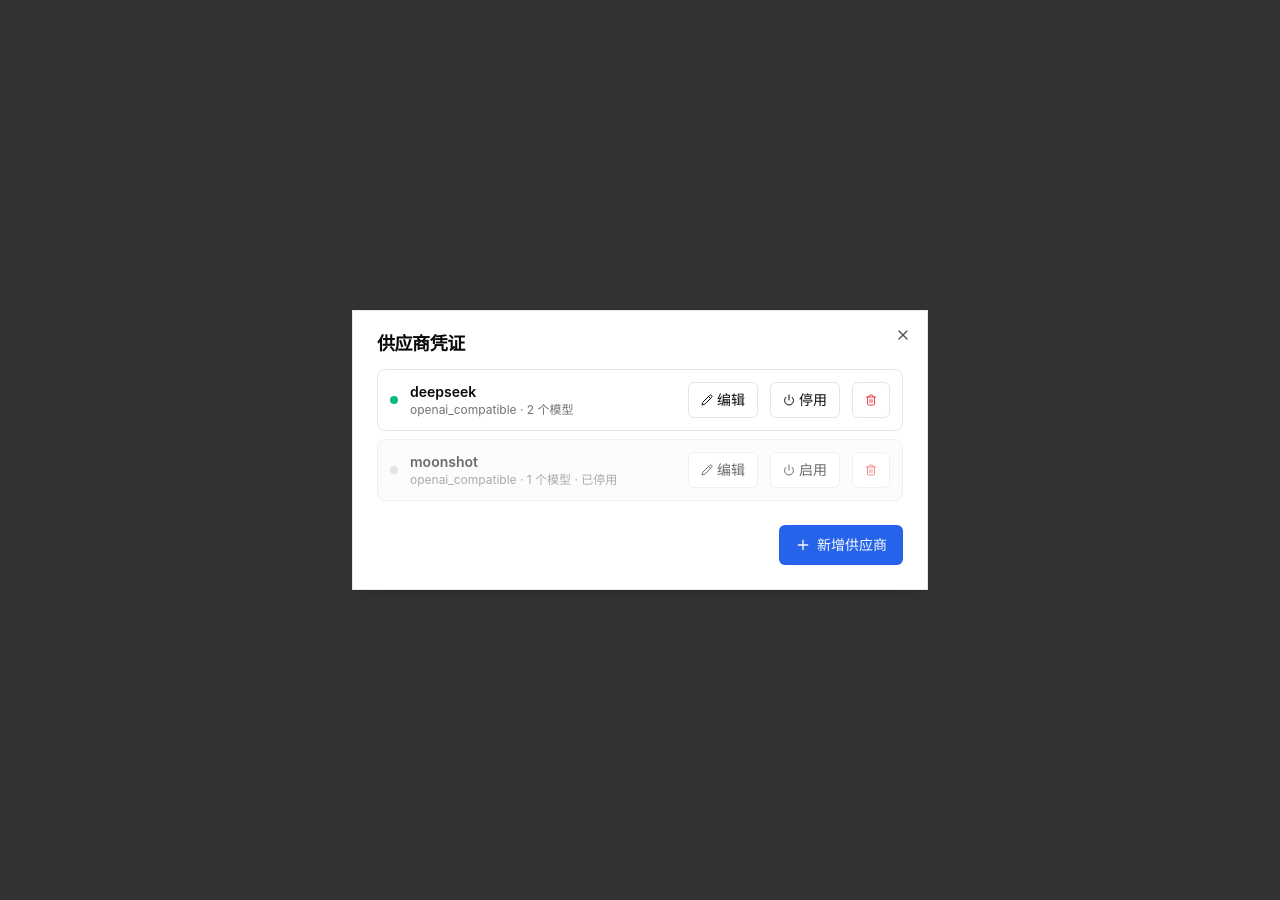
Test case: #4 删除两步确认(block-if-referenced 前端守卫) › 确认请求进行中按钮禁用,其余行垃圾桶不受影响
Click the button named "删除 deepseek": (871, 400) [852,382,890,418]
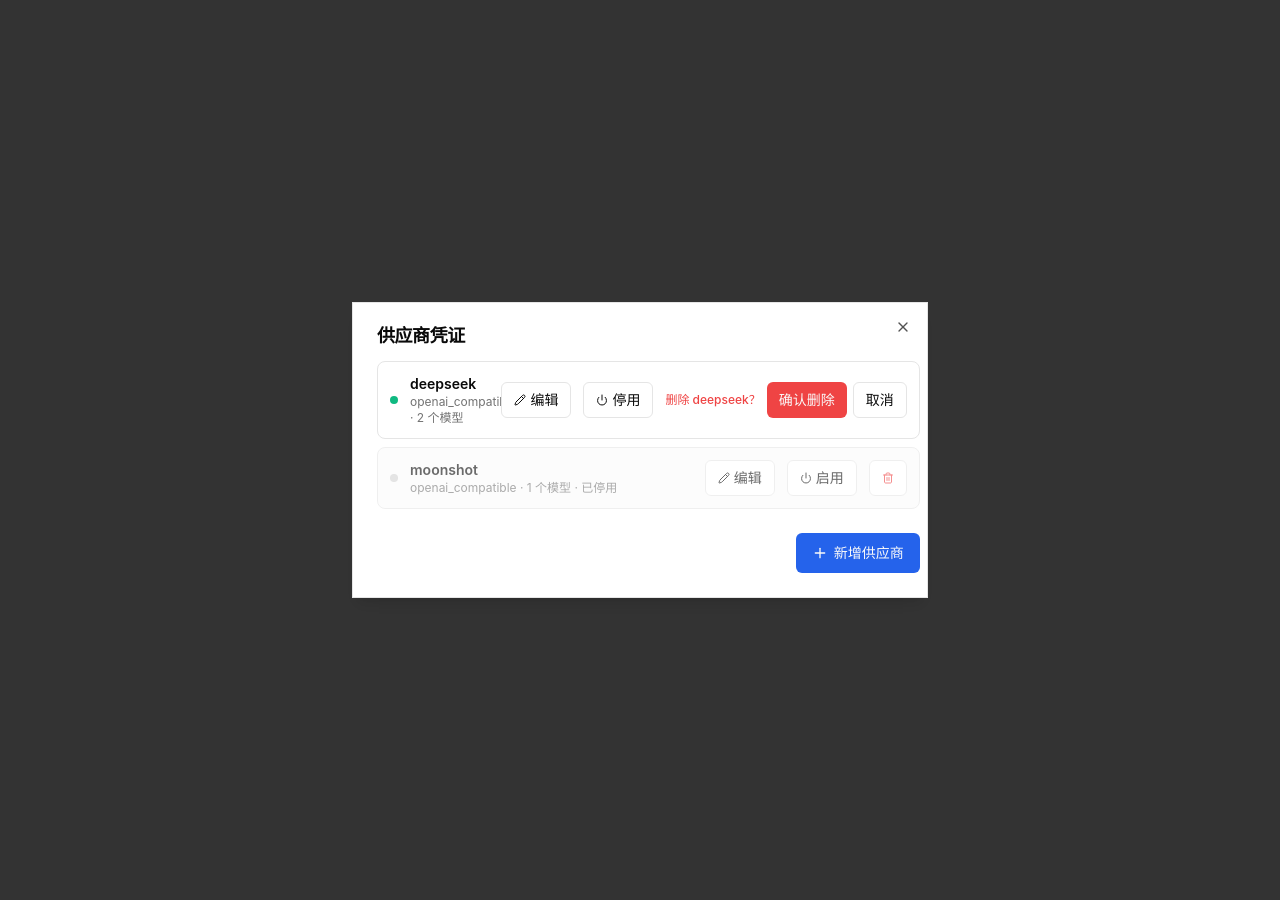
Click the button "确认删除": (807, 400) [767,382,847,418]
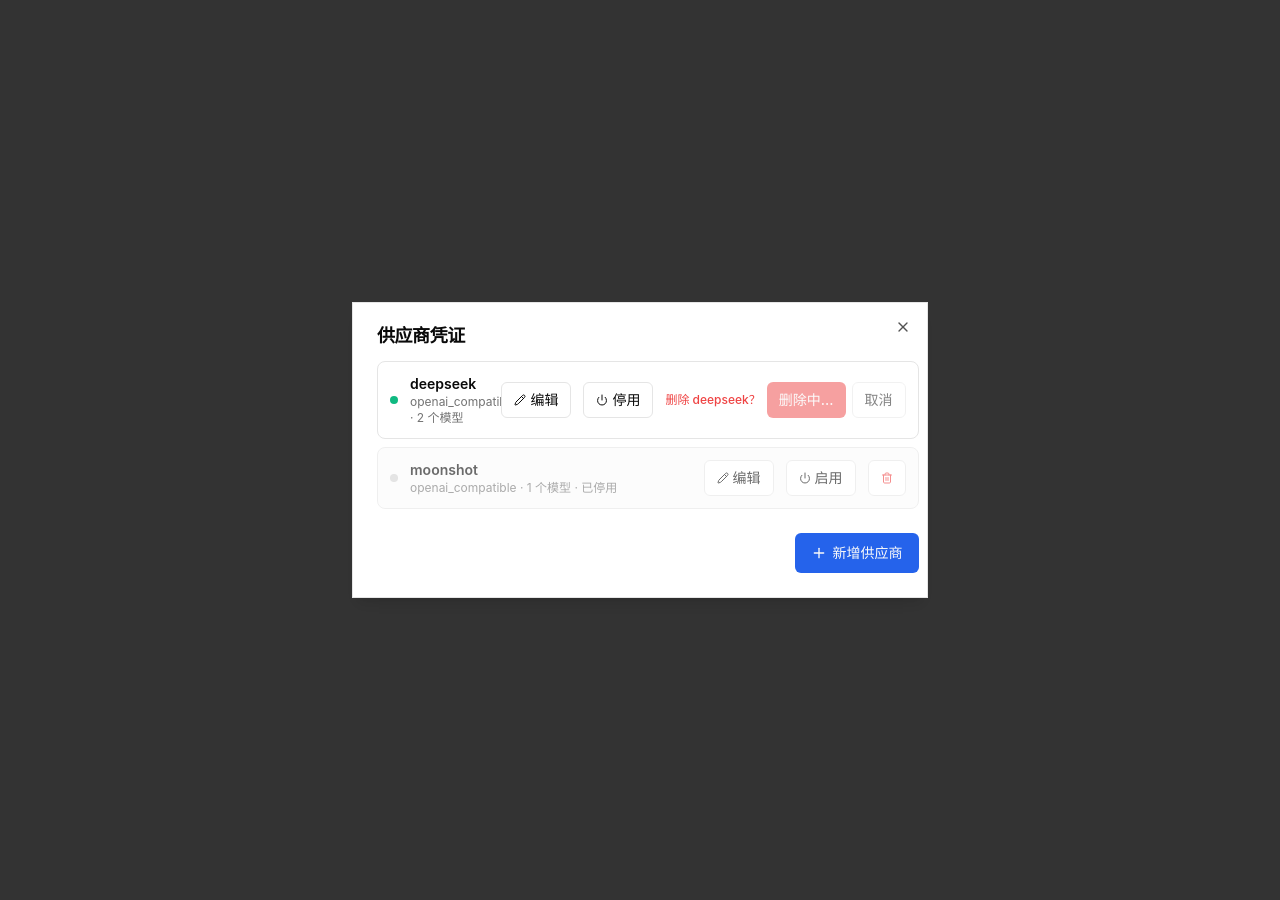
Expected: the button named "删除 moonshot" is shown, [868,460,906,496]
Now the button "删除中..." is disabled, box [767,382,846,418]
Now the button "取消" is disabled, box [852,382,906,418]
